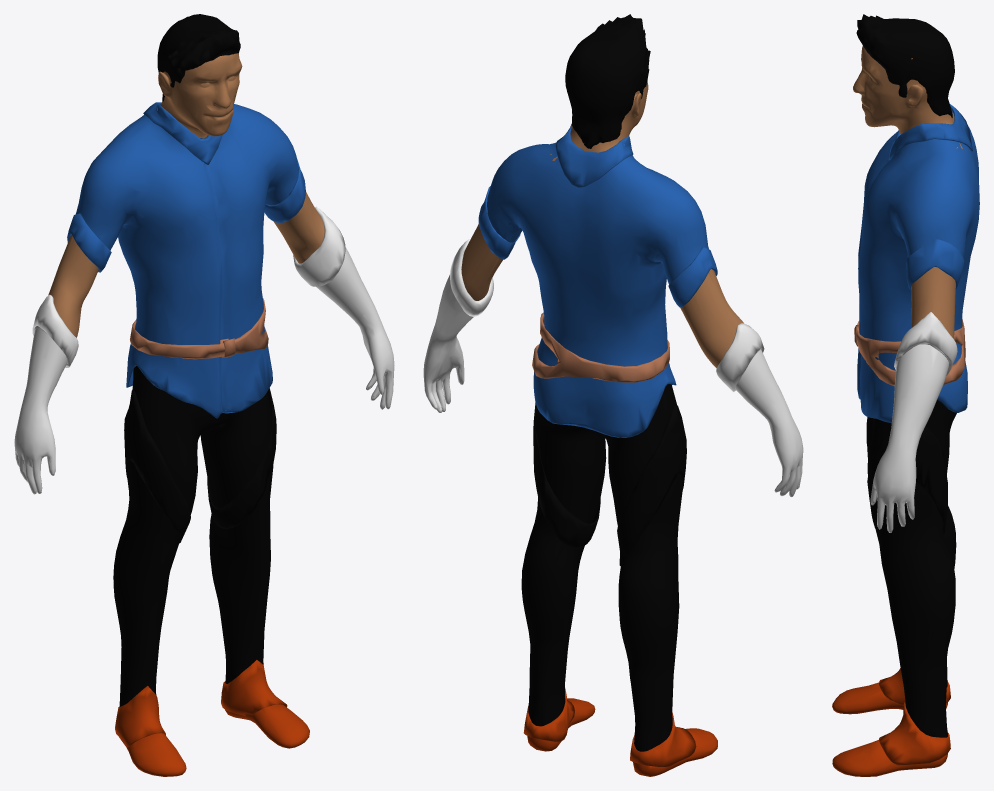
File: Male.fbx
3 renders of one model, left to right at view 1: azimuth 30°, elevation 25°; view 2: azimuth 150°, elevation 25°; view 3: azimuth 270°, elevation 25°, orthographic.
Visible parts, largest first — view 1: Male; view 2: Male; view 3: Male.
Boxes of the visible parts, bbox=[...] form: Male: bbox=[14, 14, 394, 776]; Male: bbox=[423, 14, 803, 776]; Male: bbox=[832, 14, 979, 776].
Size of the model in its own units: 11.35 by 21.05 by 3.91.
